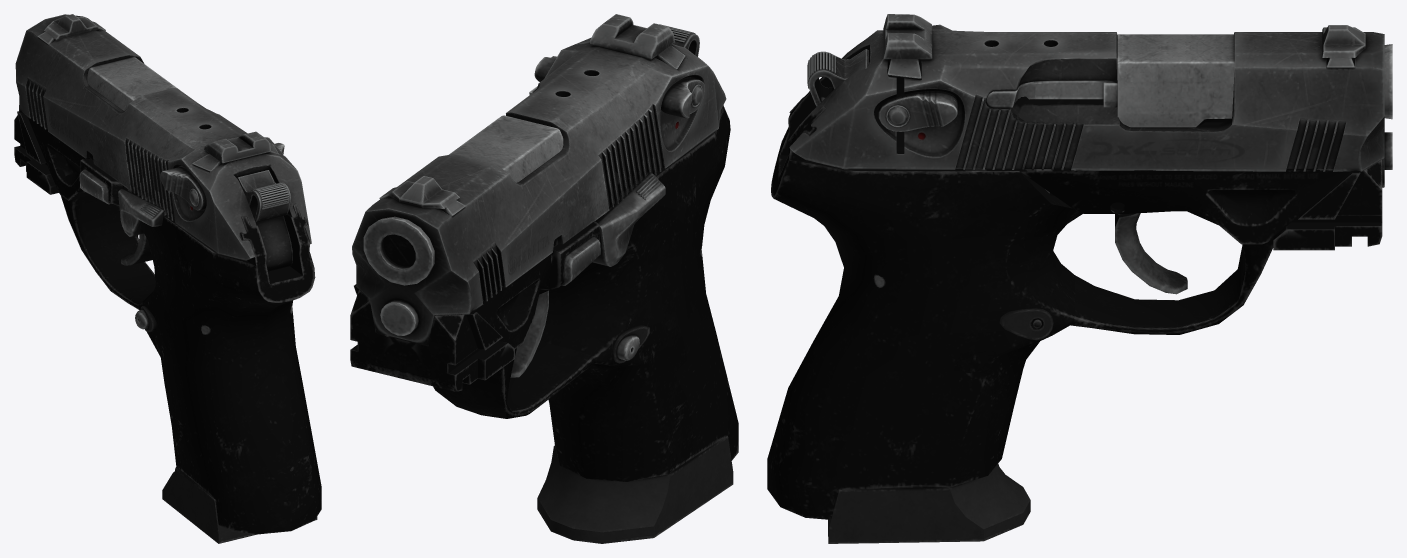
Rendered from gun.glb.
3 renders of one model, left to right at view 1: azimuth 30°, elevation 25°; view 2: azimuth 150°, elevation 25°; view 3: azimuth 270°, elevation 25°, orthographic. The views are drawn at different scales.
Size of what is drawn, in the model's own units: 0.1787 by 0.5421 by 0.6328.
1 material, 1 textured.
